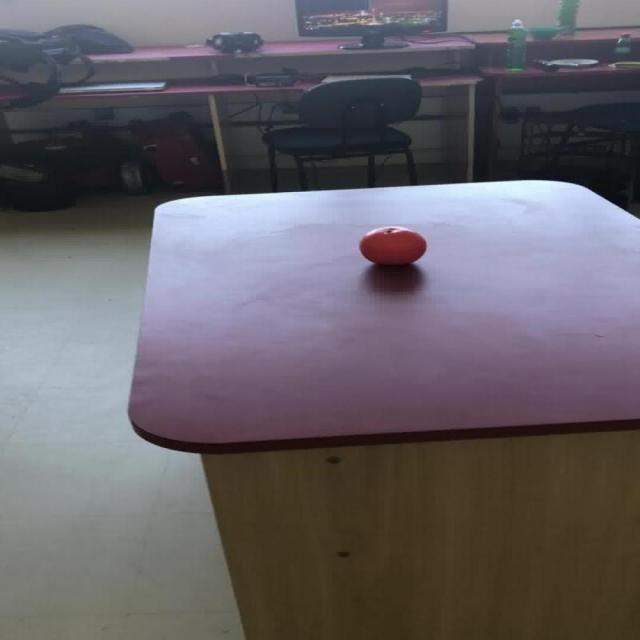Orange: (358, 225, 426, 266)
